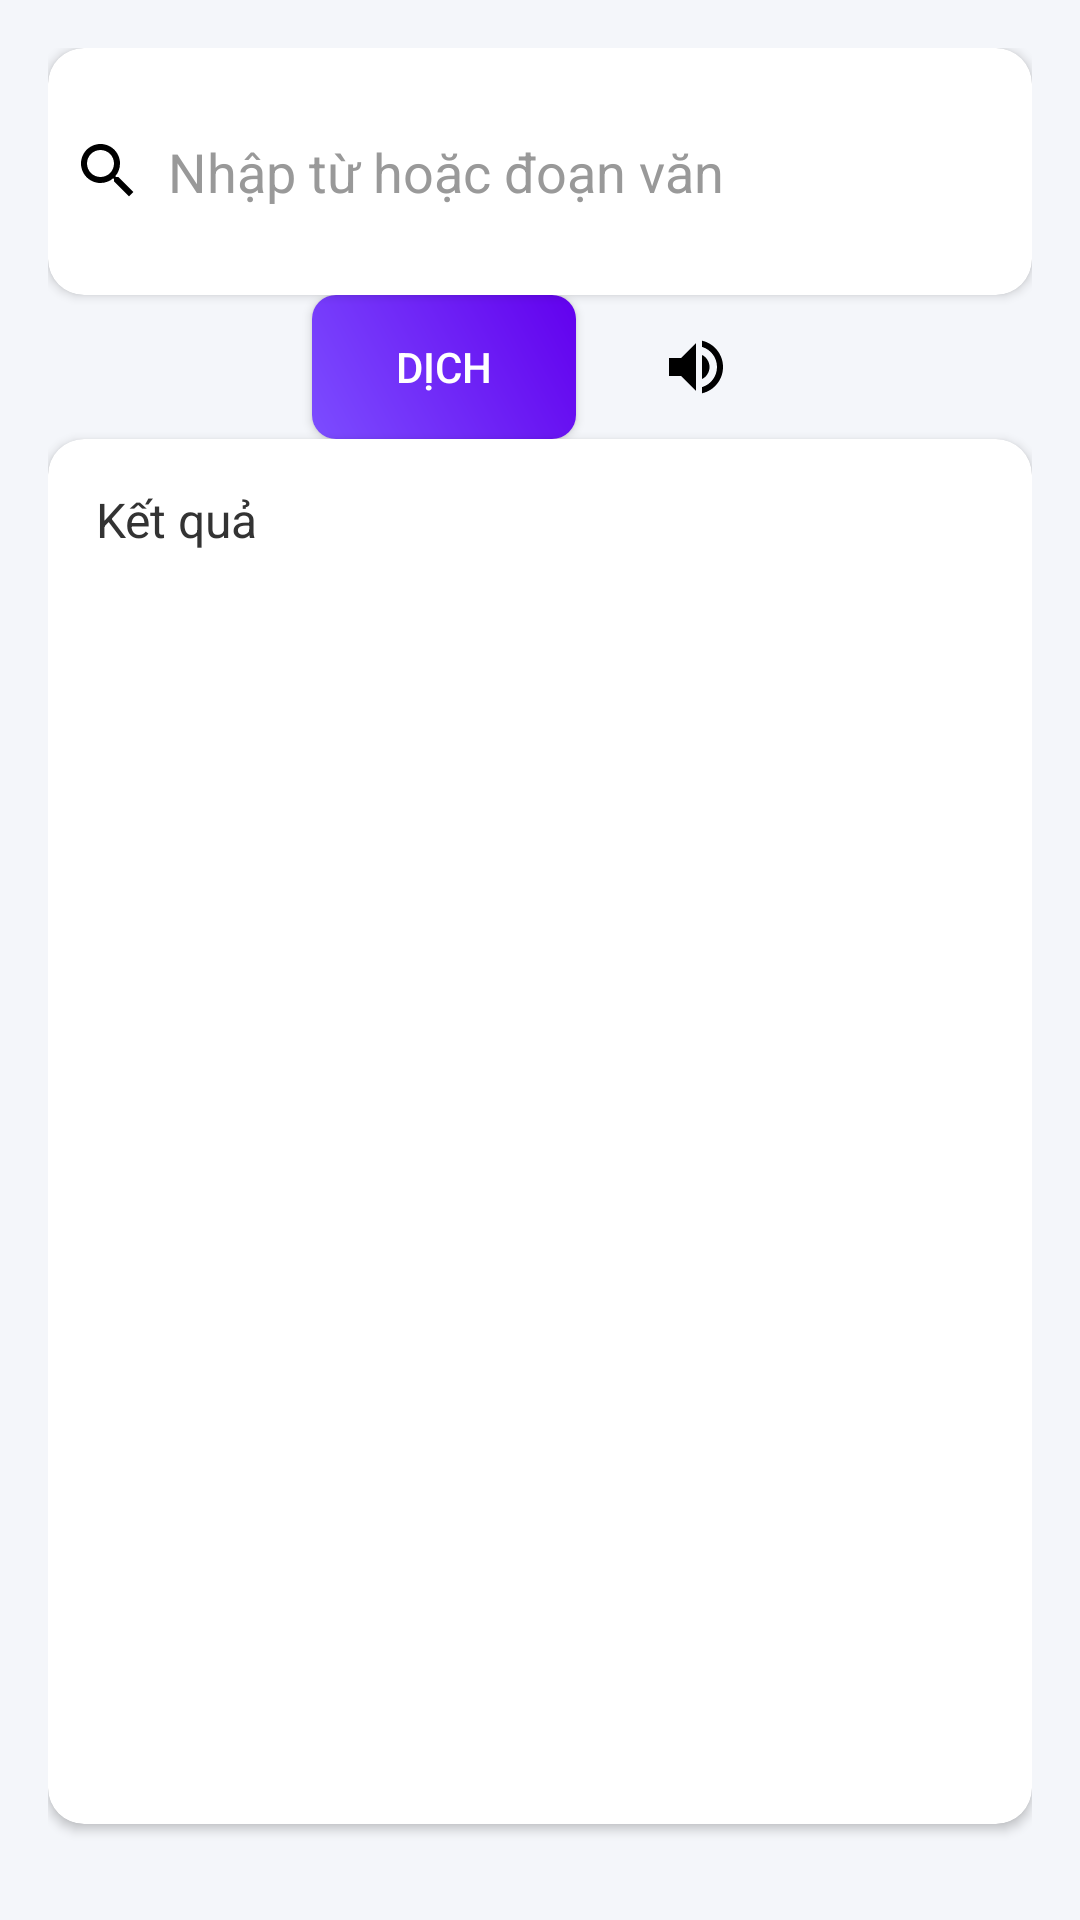

Where icons sit on this 1080w x 1920h app screen, as [x1=x1, y1=y1, x2=x2, y2=y2]:
Search icon: [x1=81, y1=144, x2=133, y2=196]
Speak: [x1=669, y1=340, x2=723, y2=394]
